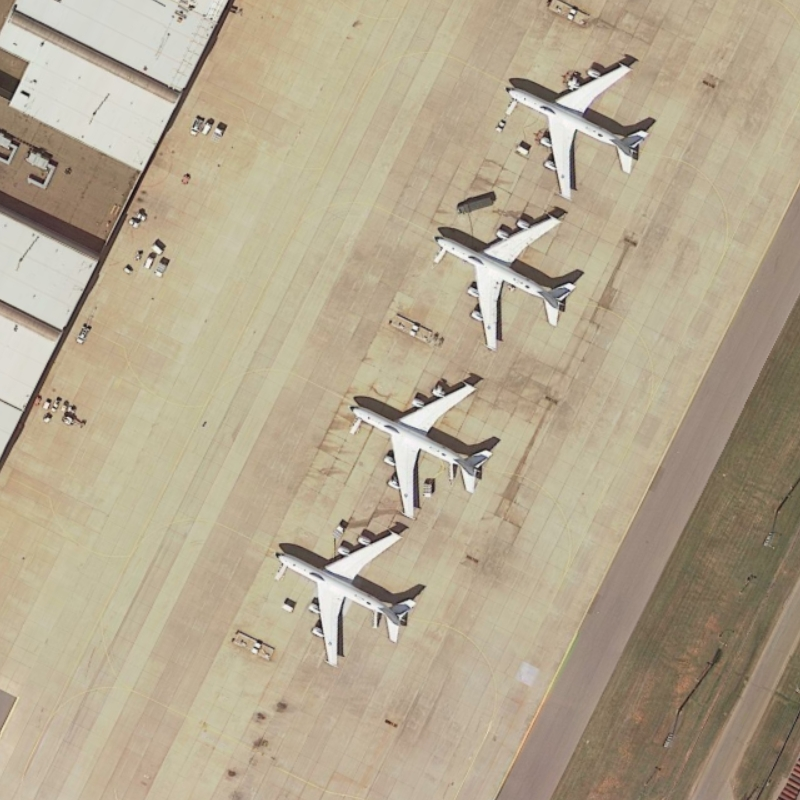A11: (339, 373, 513, 518), (497, 58, 665, 204), (262, 522, 428, 668), (429, 207, 587, 357)
